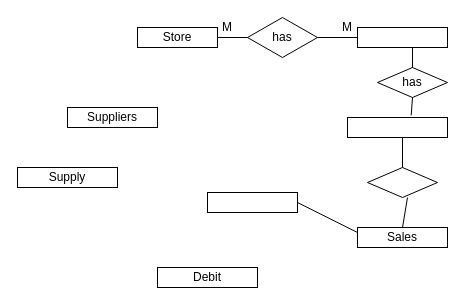
Image size: 465x305. Some labels were removed from this diagram. Each missing label, with the centre of its shape:
can: (402,182)
Department: (402,37)
Employee: (397,127)
Products: (252,202)
